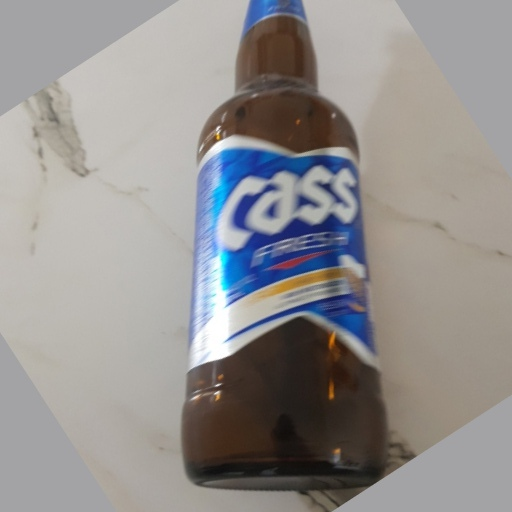Glass_1: (175, 1, 388, 487)
